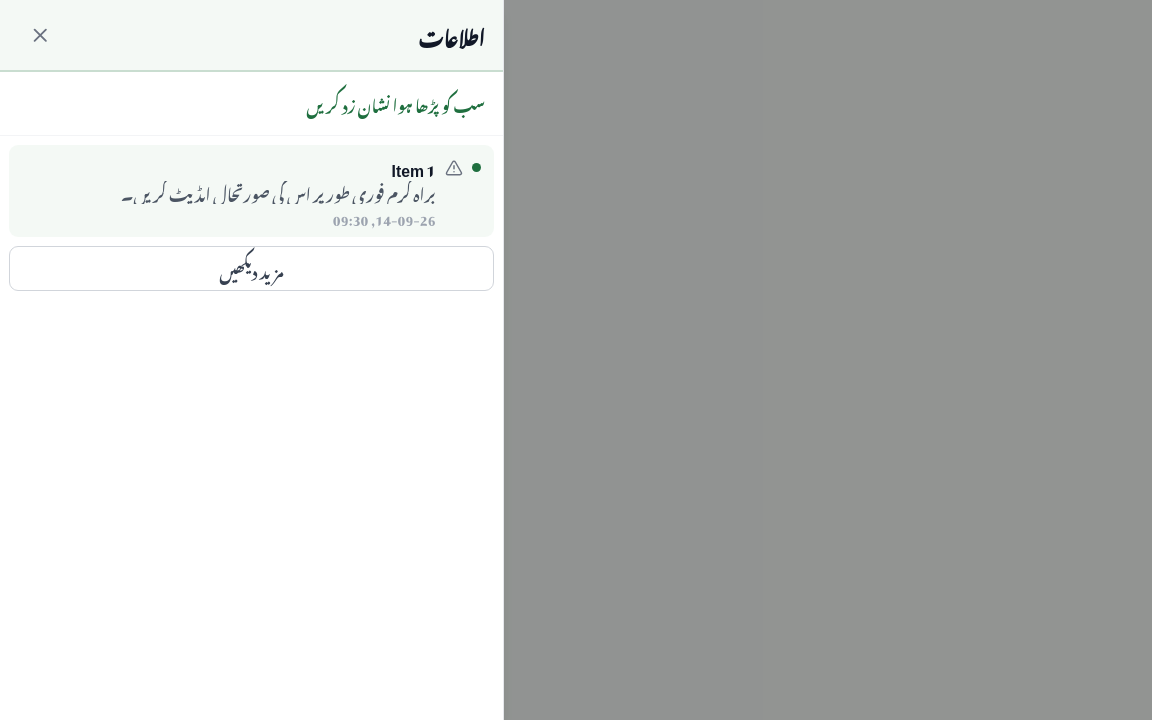
Test: NotificationDrawer › shows "مزید دیکھیں" when there are more pages, and loads the next page on click
Expected: the text "Item 1" is shown, [392, 147, 436, 186]
Click the button "مزید دیکھیں": {"x": 252, "y": 269} [9, 246, 494, 291]
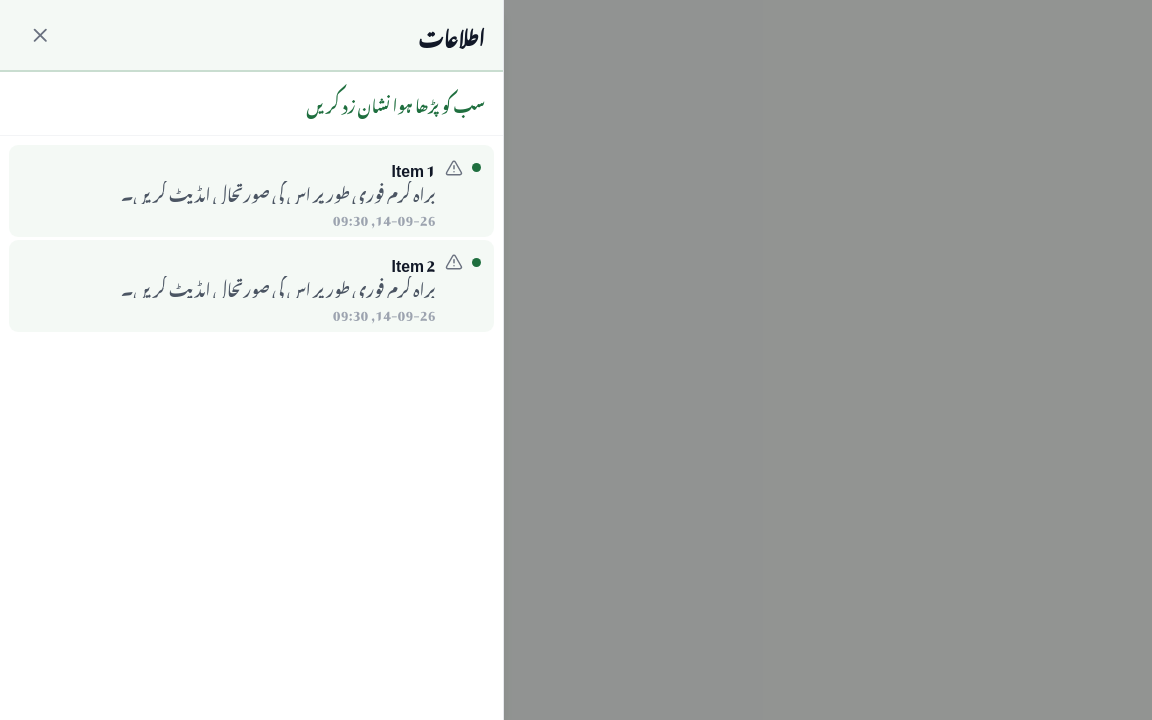
Expected: the text "Item 1" is shown, [392, 147, 436, 186]
Now the text "Item 2" is shown, box [392, 242, 436, 281]
